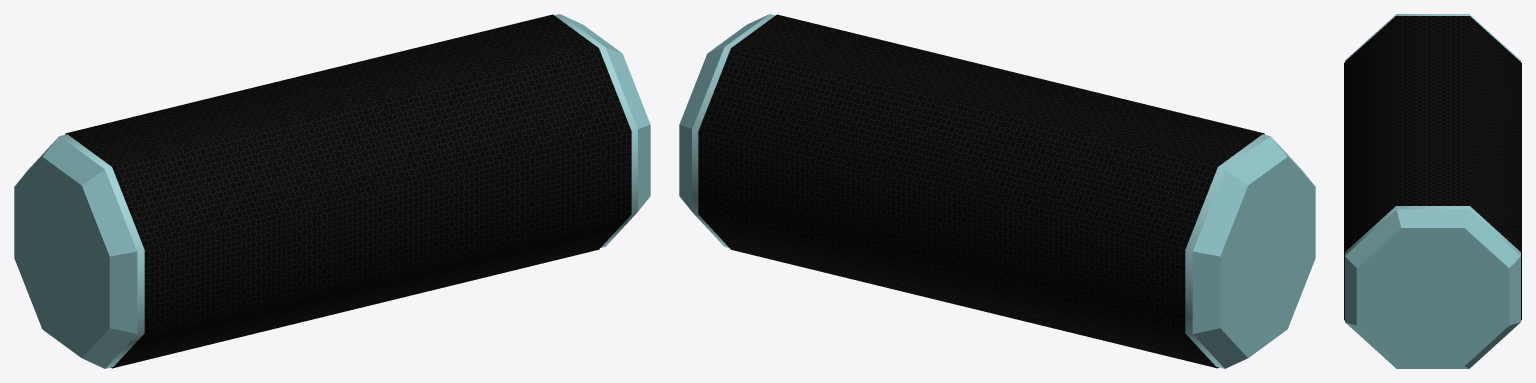
File: Itr_Obj_Speaker5_06.FBX
3 views of the same model, side by side, from view 1: azimuth 30°, elevation 25°; view 2: azimuth 150°, elevation 25°; view 3: azimuth 270°, elevation 25° (orthographic). The views are drawn at different scales.
Parts seen in each view (by area): view 1: Itr_Obj_Speaker5_06; view 2: Itr_Obj_Speaker5_06; view 3: Itr_Obj_Speaker5_06.
Boxes of the visible parts, <box> form: Itr_Obj_Speaker5_06: <box>14,14,650,368</box>; Itr_Obj_Speaker5_06: <box>679,14,1315,368</box>; Itr_Obj_Speaker5_06: <box>1344,14,1521,368</box>.
Size of the model in its own units: 22.7 by 8.08 by 8.08.
